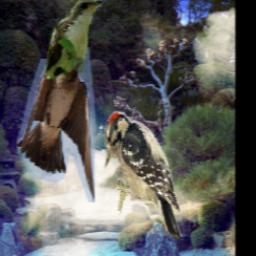Cuckoo: (44, 0, 101, 81)
Swallow: (18, 47, 96, 202)
Woodpecker: (105, 109, 189, 243)
